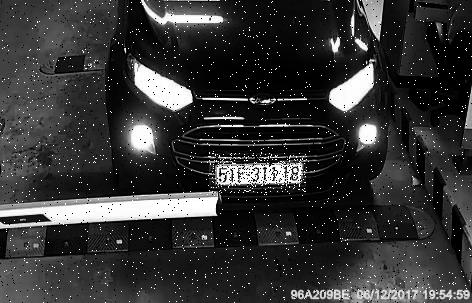License-plate: (211, 154, 309, 194)
